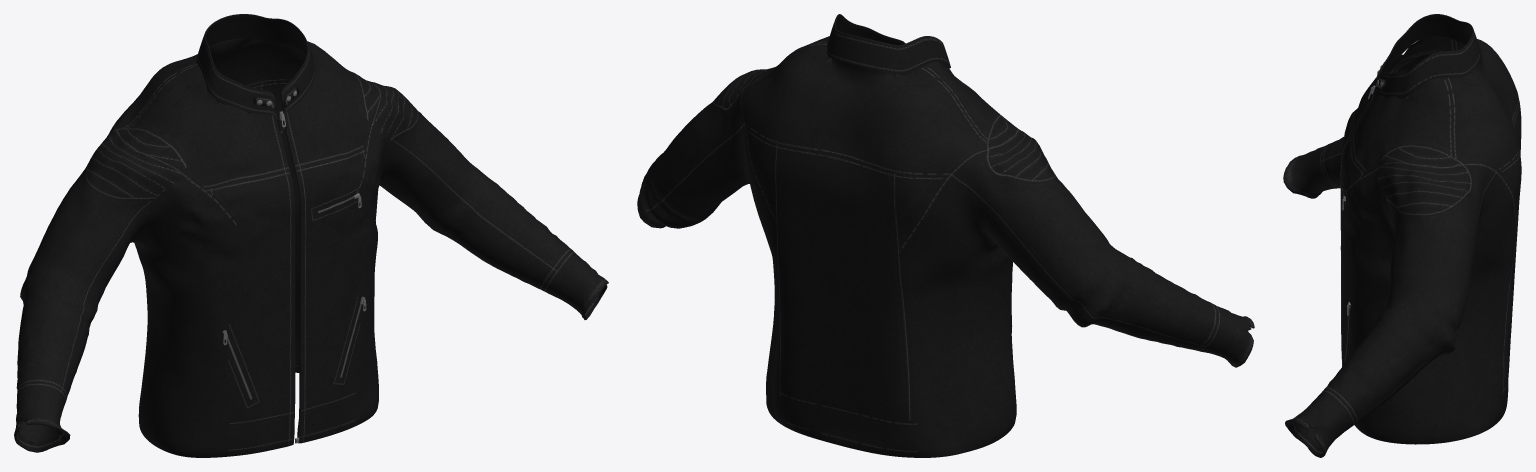
File: jacket.glb
3 views of the same model, side by side, from view 1: azimuth 30°, elevation 25°; view 2: azimuth 150°, elevation 25°; view 3: azimuth 270°, elevation 25° (orthographic). The views are drawn at different scales.
Parts seen in each view (by area): view 1: moto-jacket; view 2: moto-jacket; view 3: moto-jacket.
Part boxes in pixels (left/top/right/bottom): moto-jacket: left=14, top=14, right=608, bottom=457; moto-jacket: left=637, top=14, right=1254, bottom=457; moto-jacket: left=1283, top=14, right=1521, bottom=457.
Bounding box in the file's own units: 0.9958 × 0.613 × 0.3632.
4 materials, 2 textured.
